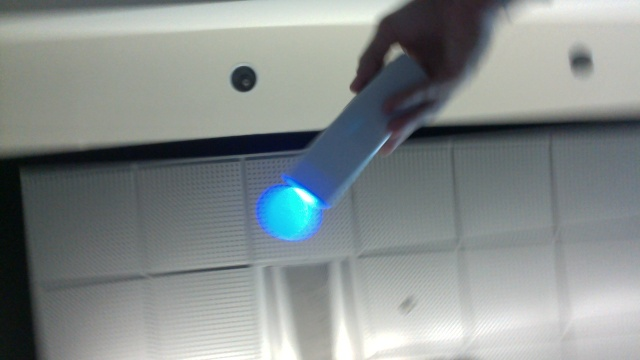wand: (256, 188, 321, 242)
